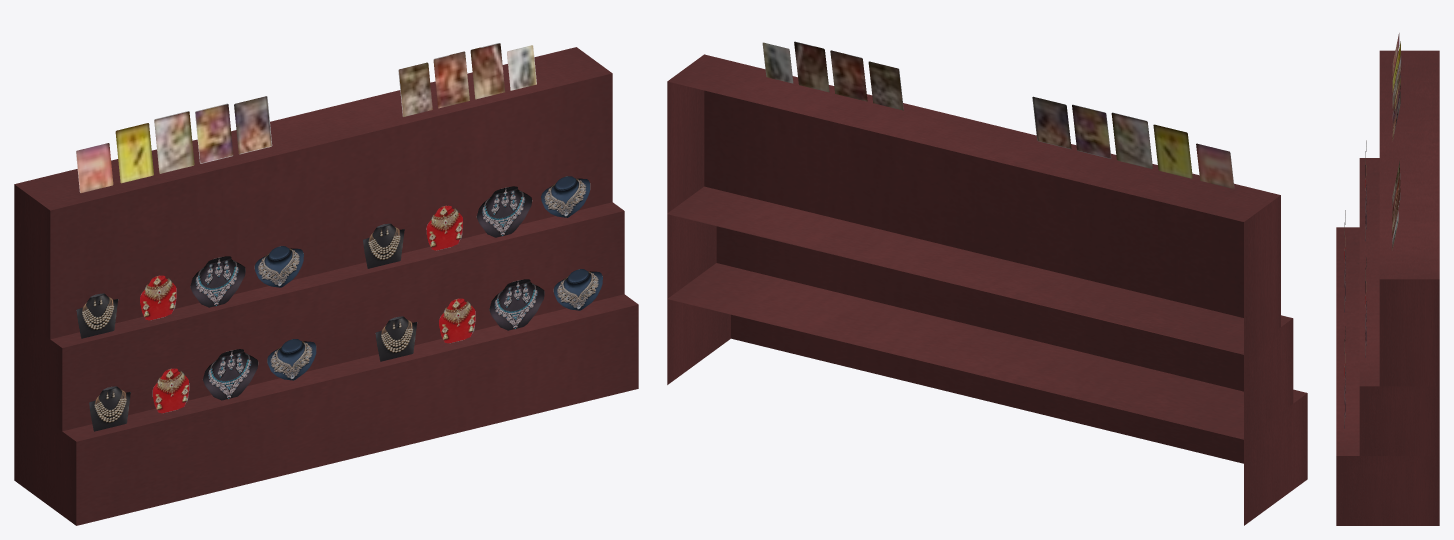
3 views of the same model, side by side, from view 1: azimuth 30°, elevation 25°; view 2: azimuth 150°, elevation 25°; view 3: azimuth 270°, elevation 25° (orthographic). The views are drawn at different scales.
Visible parts, largest first — view 1: sd_02; view 2: sd_02; view 3: sd_02.
Part boxes in pixels (x1,y1,x2,y2): sd_02: (14,43,638,525); sd_02: (667,41,1307,525); sd_02: (1336,33,1439,525).
Size of the model in its own units: 18.57 by 3.56 by 11.21.
1 material, 1 textured.
